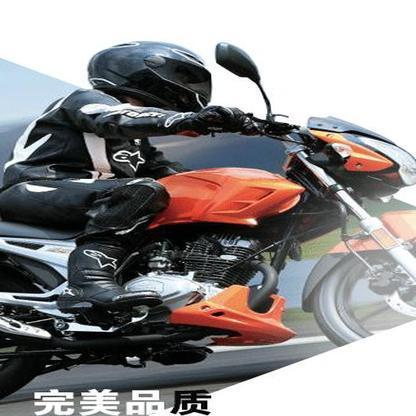target: (6, 40, 411, 384)
